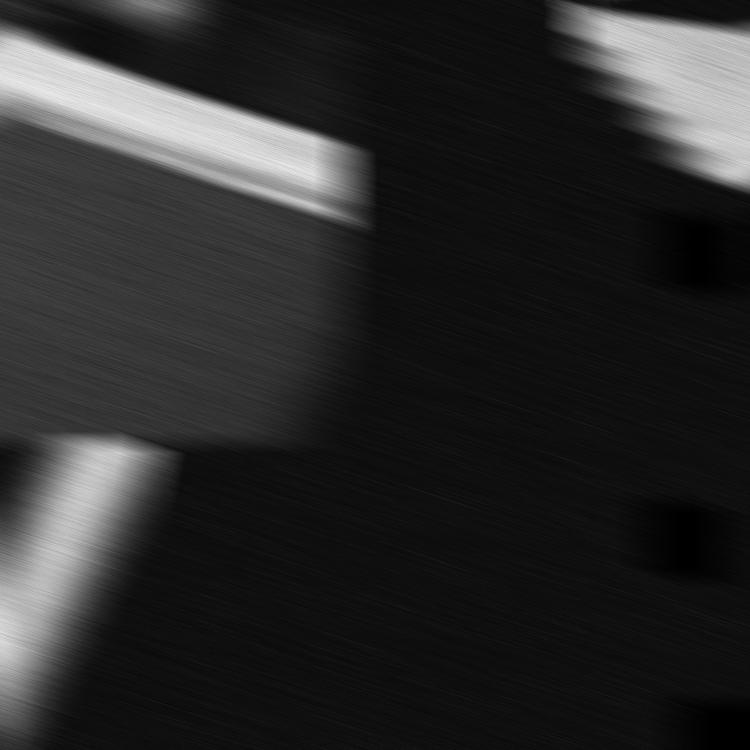Airbag: (0, 0, 352, 444), (0, 440, 159, 715), (572, 6, 750, 194)
